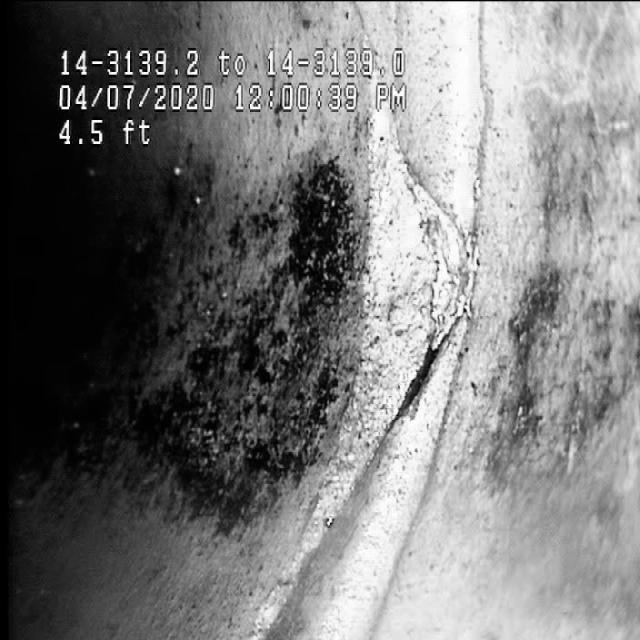Crack: (371, 138, 486, 480)
